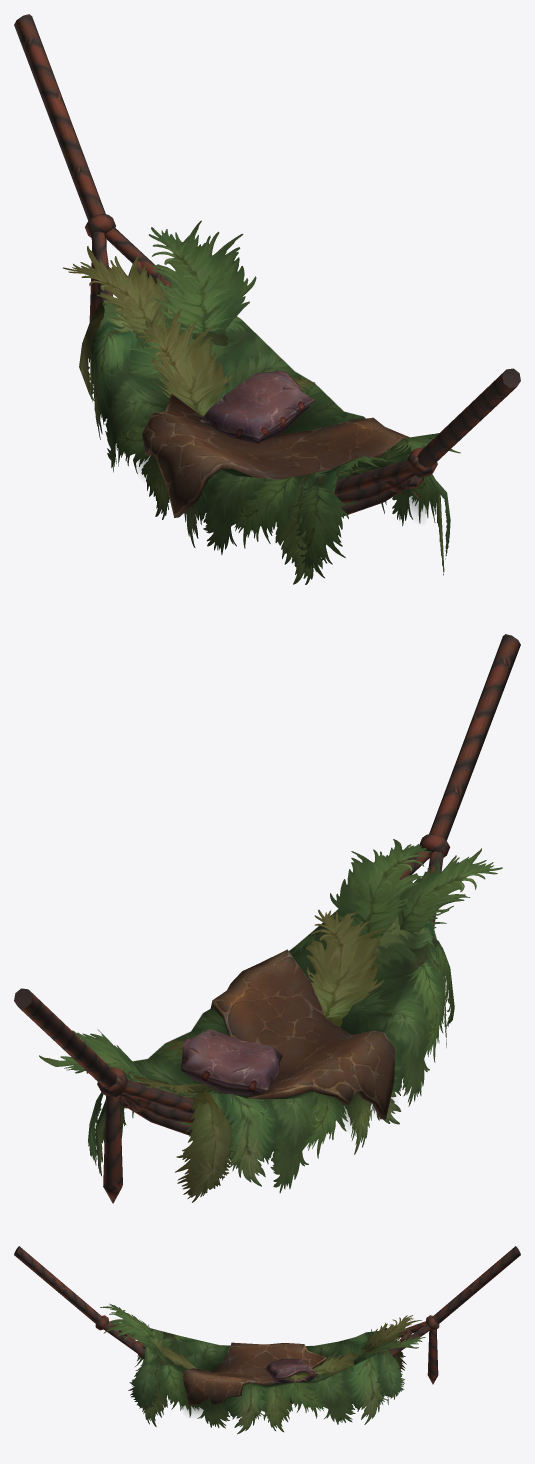
The picture shows the model from 3 angles, top to bottom: view 1: azimuth 30°, elevation 25°; view 2: azimuth 150°, elevation 25°; view 3: azimuth 270°, elevation 25°; orthographic projection. The views are drawn at different scales.
Size of the model in its own units: 2.67 by 4.42 by 11.27.
Materials: 5 (5 with a texture image).
